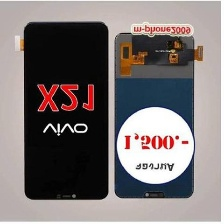phone: (21, 17, 111, 204), (112, 28, 196, 202)
